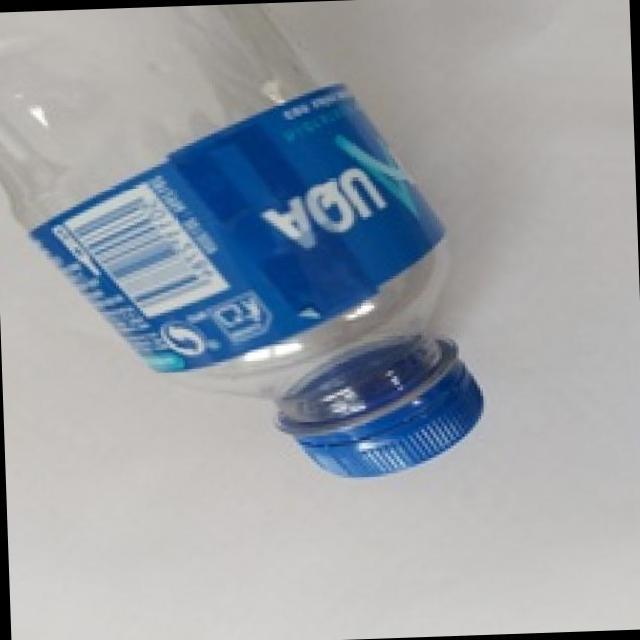good: (0, 0, 486, 494)
